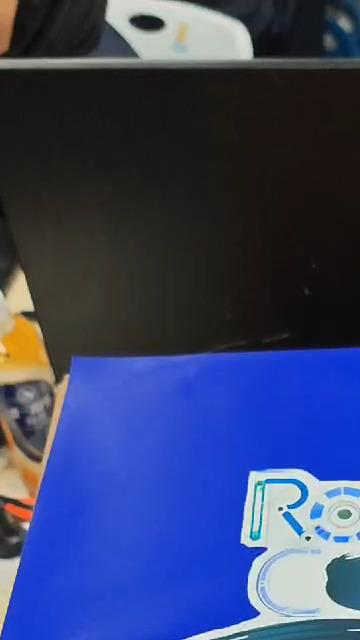B_R1: (9, 463, 360, 640)
